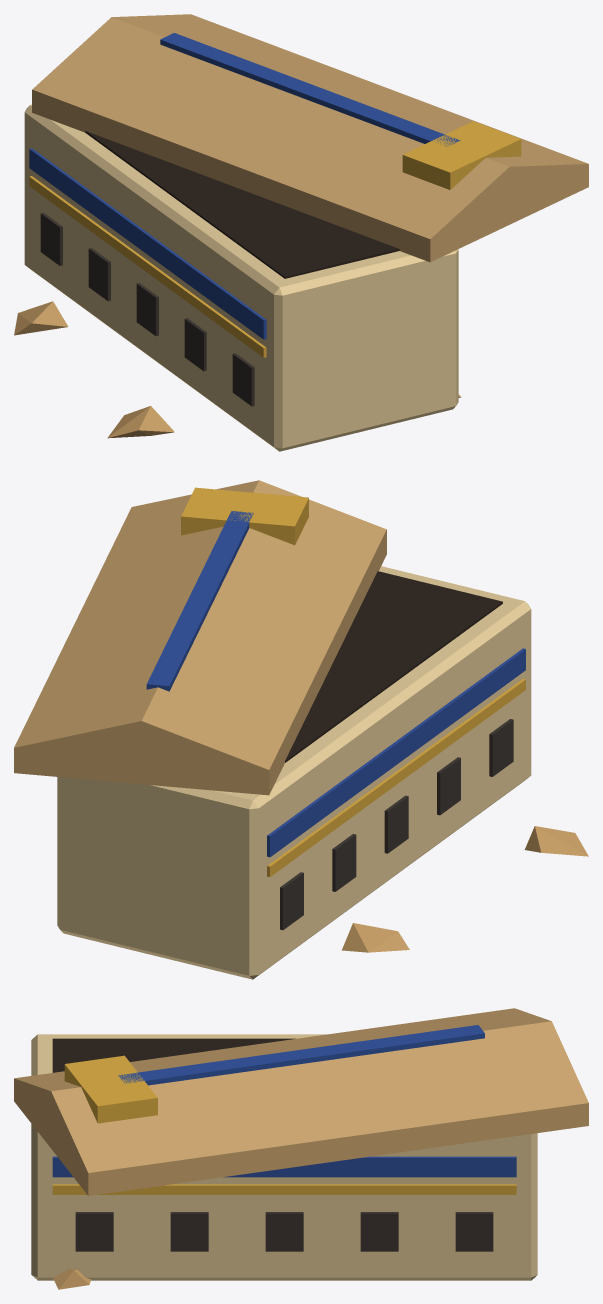
Rendered from desert_sarcophagus.glb.
3 views of the same model, one above another, from view 1: azimuth 30°, elevation 25°; view 2: azimuth 150°, elevation 25°; view 3: azimuth 270°, elevation 25° (orthographic). The views are drawn at different scales.
Parts seen in each view (by area): view 1: desert_sarcophagus; view 2: desert_sarcophagus; view 3: desert_sarcophagus.
Boxes of the visible parts, <box> form: desert_sarcophagus: <box>14,14,588,451</box>; desert_sarcophagus: <box>14,480,588,979</box>; desert_sarcophagus: <box>14,1008,588,1289</box>.
Size of the model in its own units: 2.44 by 1.16 by 2.73.
